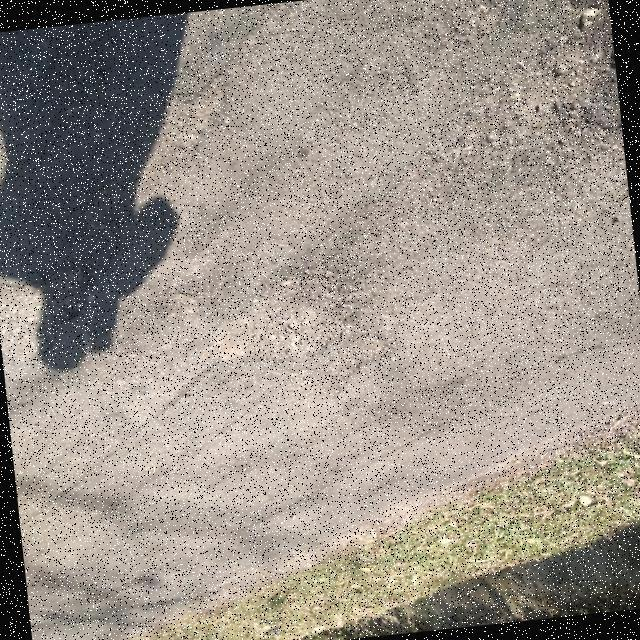Pothole: (503, 0, 618, 142), (213, 265, 347, 364), (0, 264, 91, 368), (34, 22, 111, 129)
